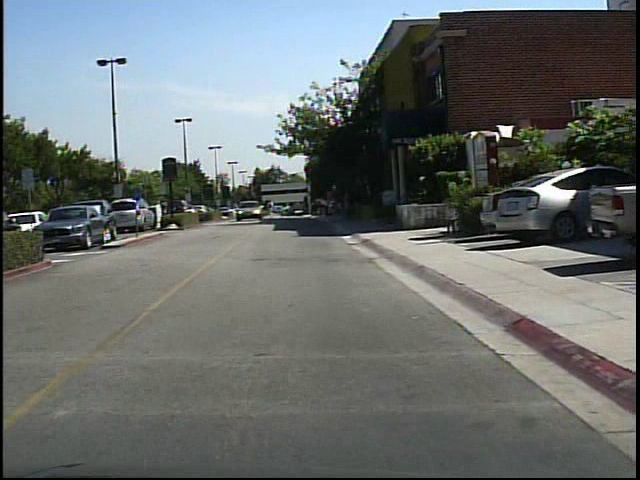person: (155, 194, 171, 229), (266, 195, 278, 221)
